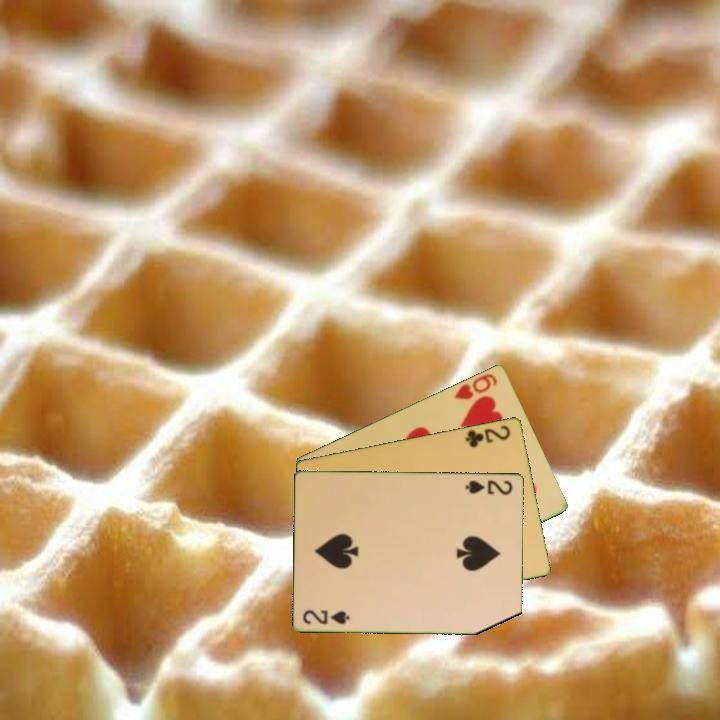2c: (462, 421, 514, 450)
2s: (462, 476, 516, 497), (300, 606, 353, 627)
6h: (451, 370, 500, 402)
